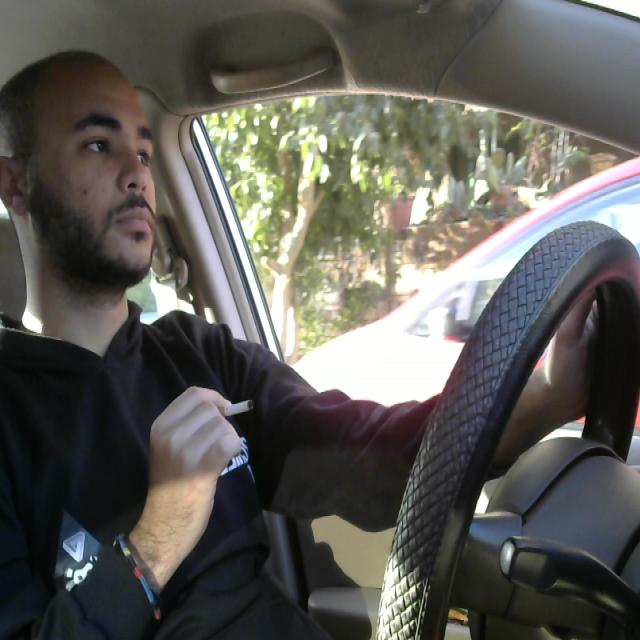smoking: (197, 394, 260, 424)
